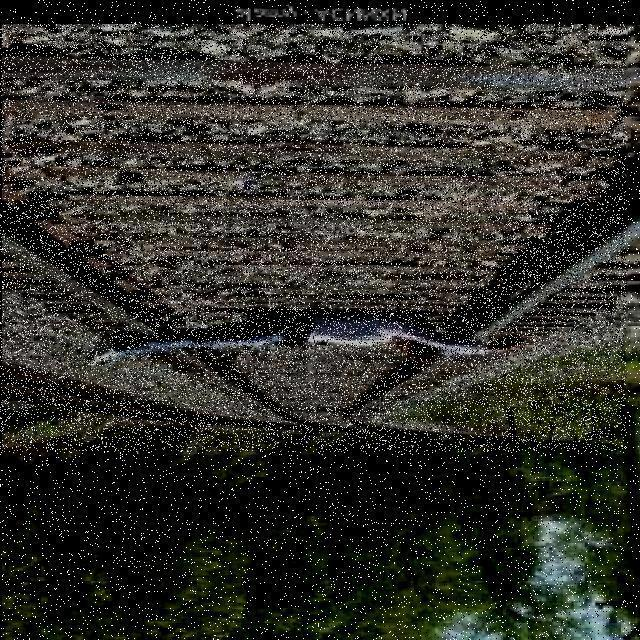rail: (1, 26, 627, 453)
